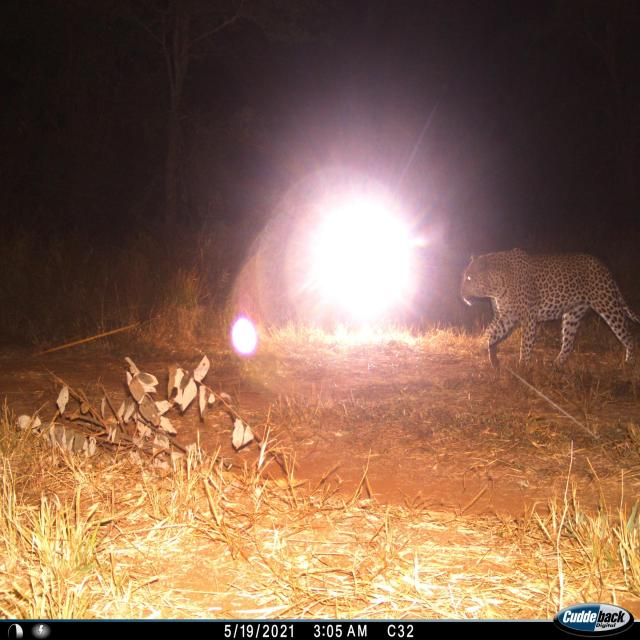Leopard: (454, 242, 640, 378)
